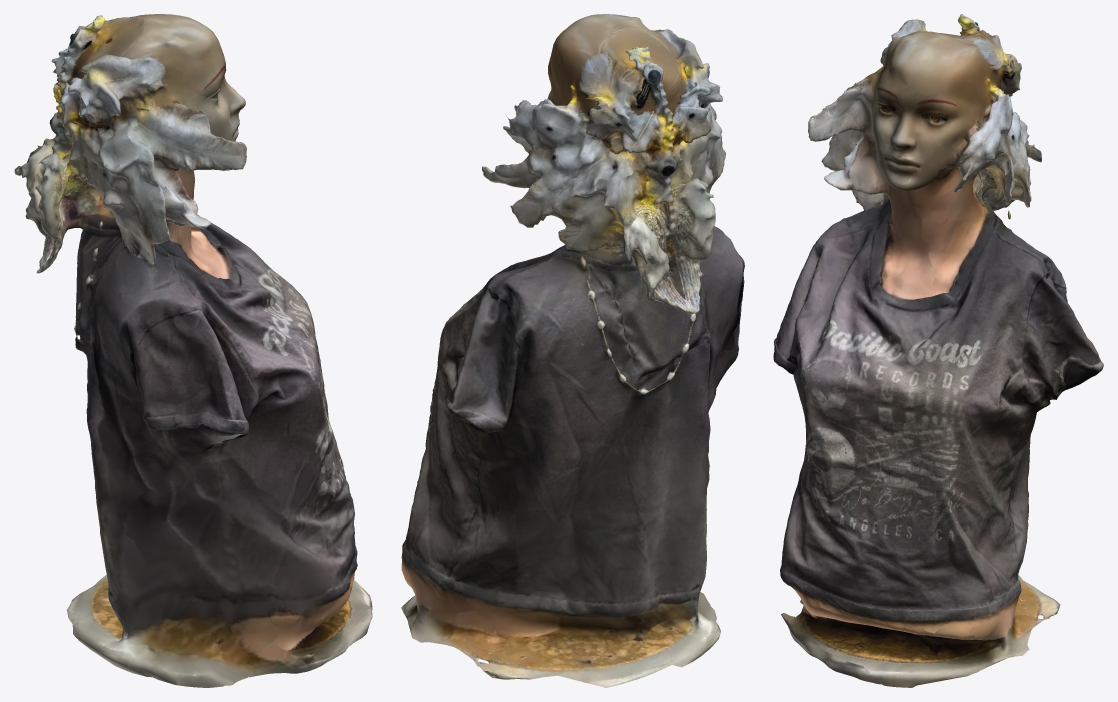
Rendered from Leslie_Omana.glb.
The picture shows the model from 3 angles, left to right: view 1: azimuth 30°, elevation 25°; view 2: azimuth 150°, elevation 25°; view 3: azimuth 270°, elevation 25°; orthographic projection. The views are drawn at different scales.
Visible parts, largest first — view 1: mesh_0; view 2: mesh_0; view 3: mesh_0.
Boxes of the visible parts, x1,y1,x2,y2 form: mesh_0: (14, 14, 372, 687); mesh_0: (401, 14, 744, 687); mesh_0: (773, 14, 1103, 687).
Size of the model in its own units: 2.41 by 4.69 by 2.48.
Materials: 1 (1 with a texture image).
